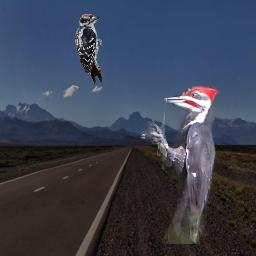Woodpecker: (139, 86, 220, 244), (74, 14, 102, 85)
